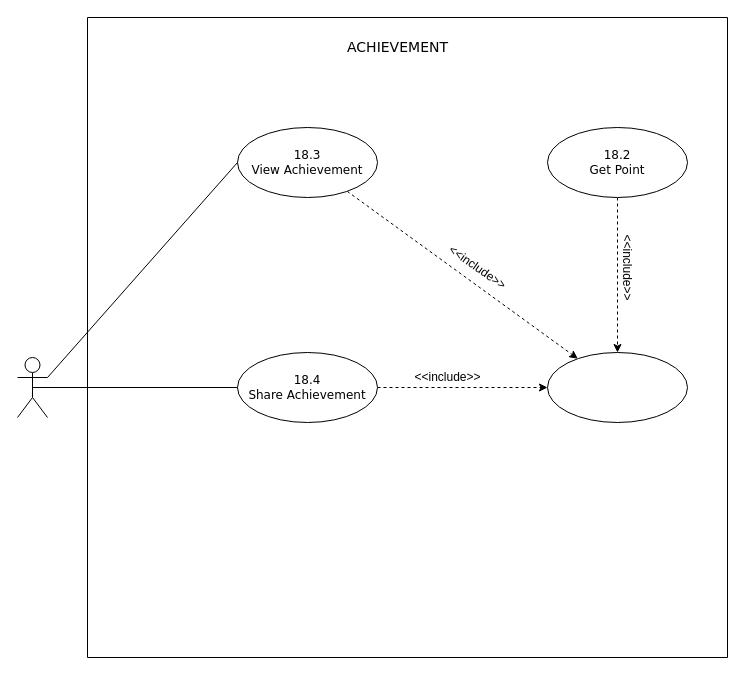
This 746x676 diagram has some shape labels left out. Each missing label, with the centre of its shape:
"18.1 Record Achievement" goes at [617,387].
"User" goes at [32,387].
